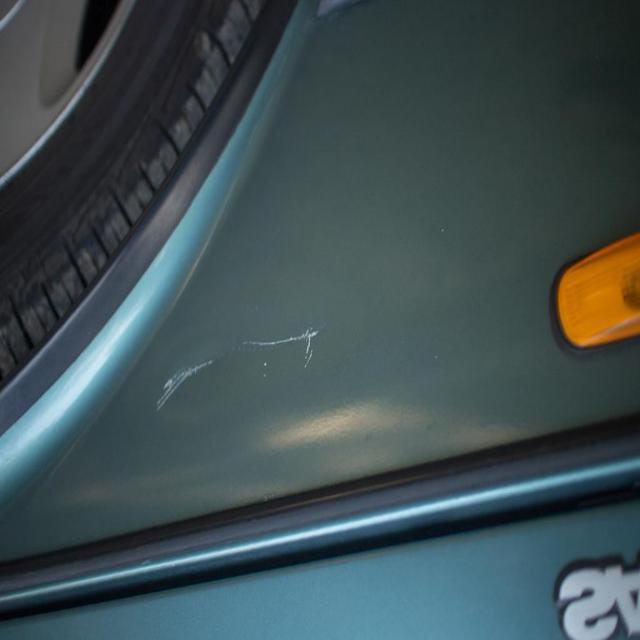scratch: (142, 304, 346, 430)
